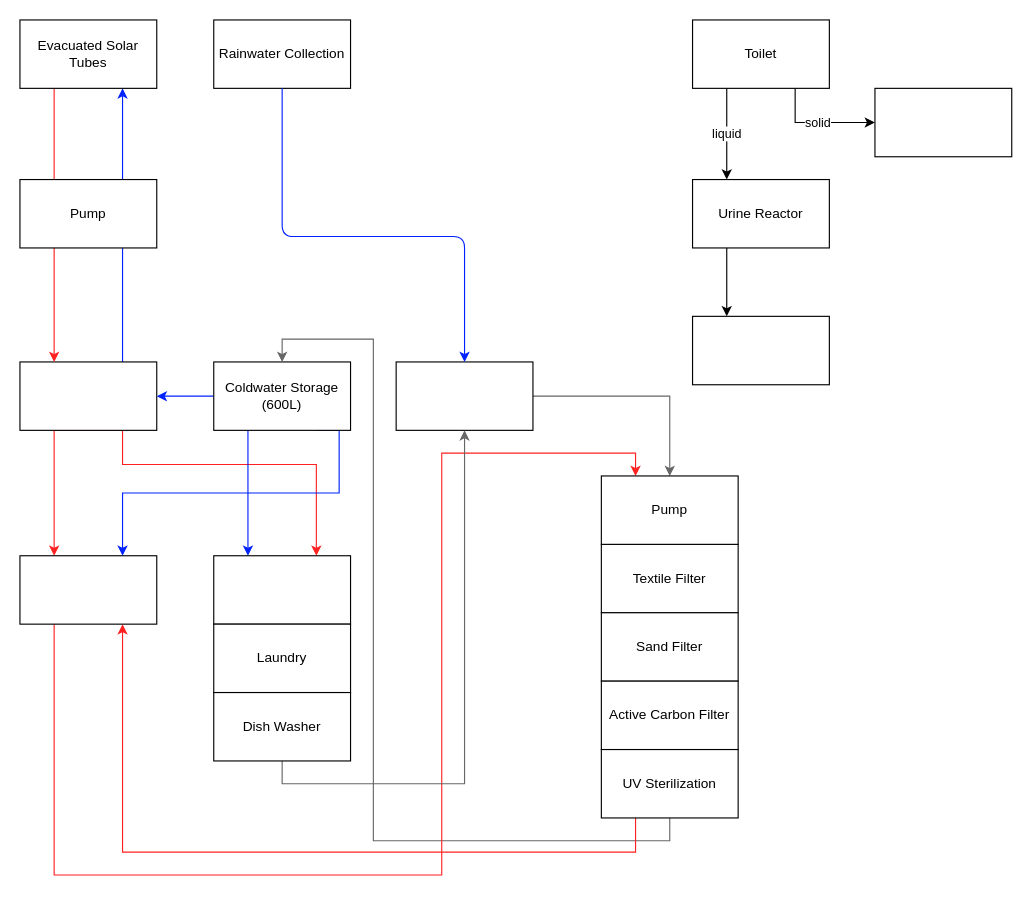
This 1032x904 diagram has some shape labels left out. Here are the shapes that lost their labels. From the top down, the centre of each, then its label:
point (943, 122): Compost
point (760, 350): PeePonic System
point (88, 395): Warmwater Storage (200L)
point (464, 395): Greywater Storage (600L)
point (88, 589): Shower
point (282, 589): Kitchen
